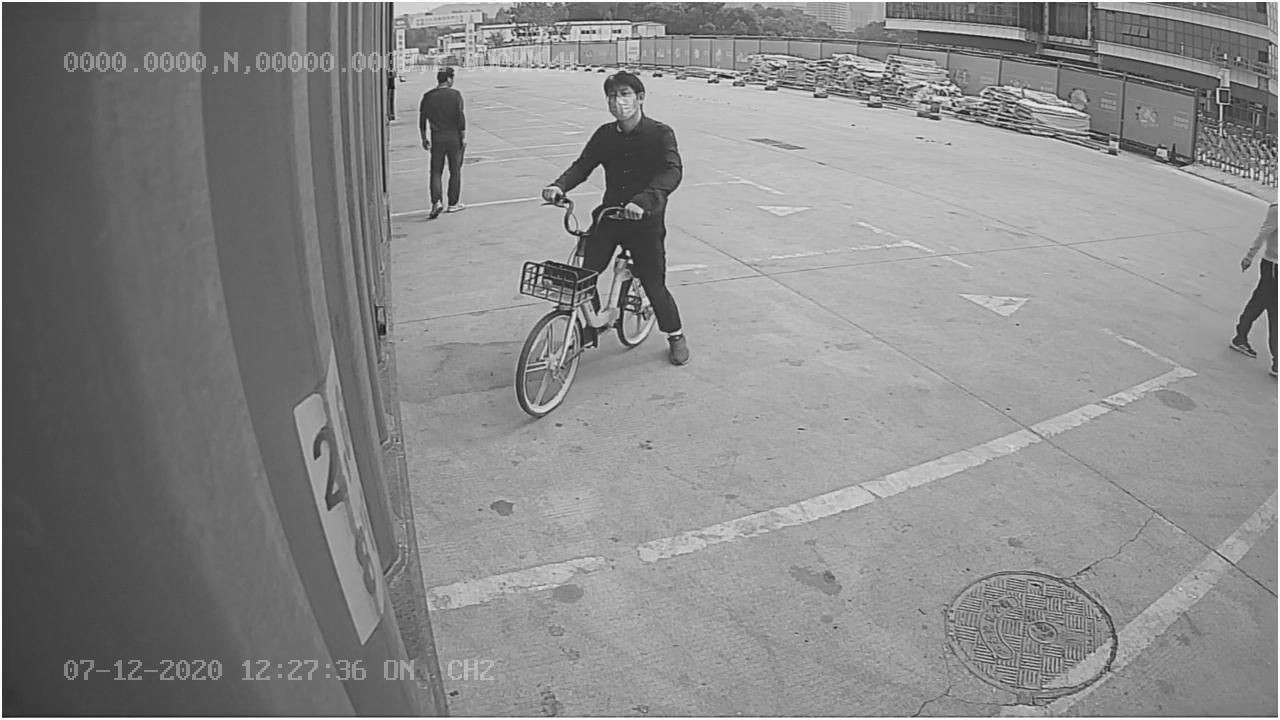person: (416, 62, 472, 225)
